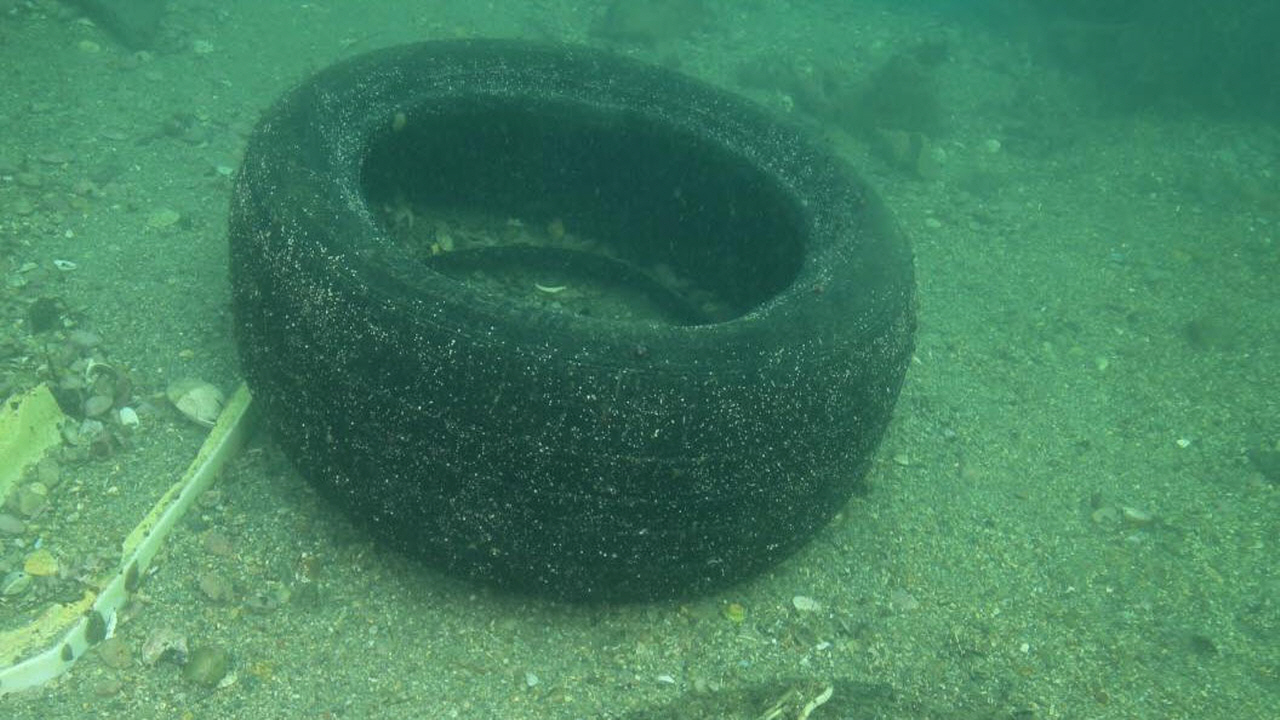tire: (228, 34, 918, 598)
